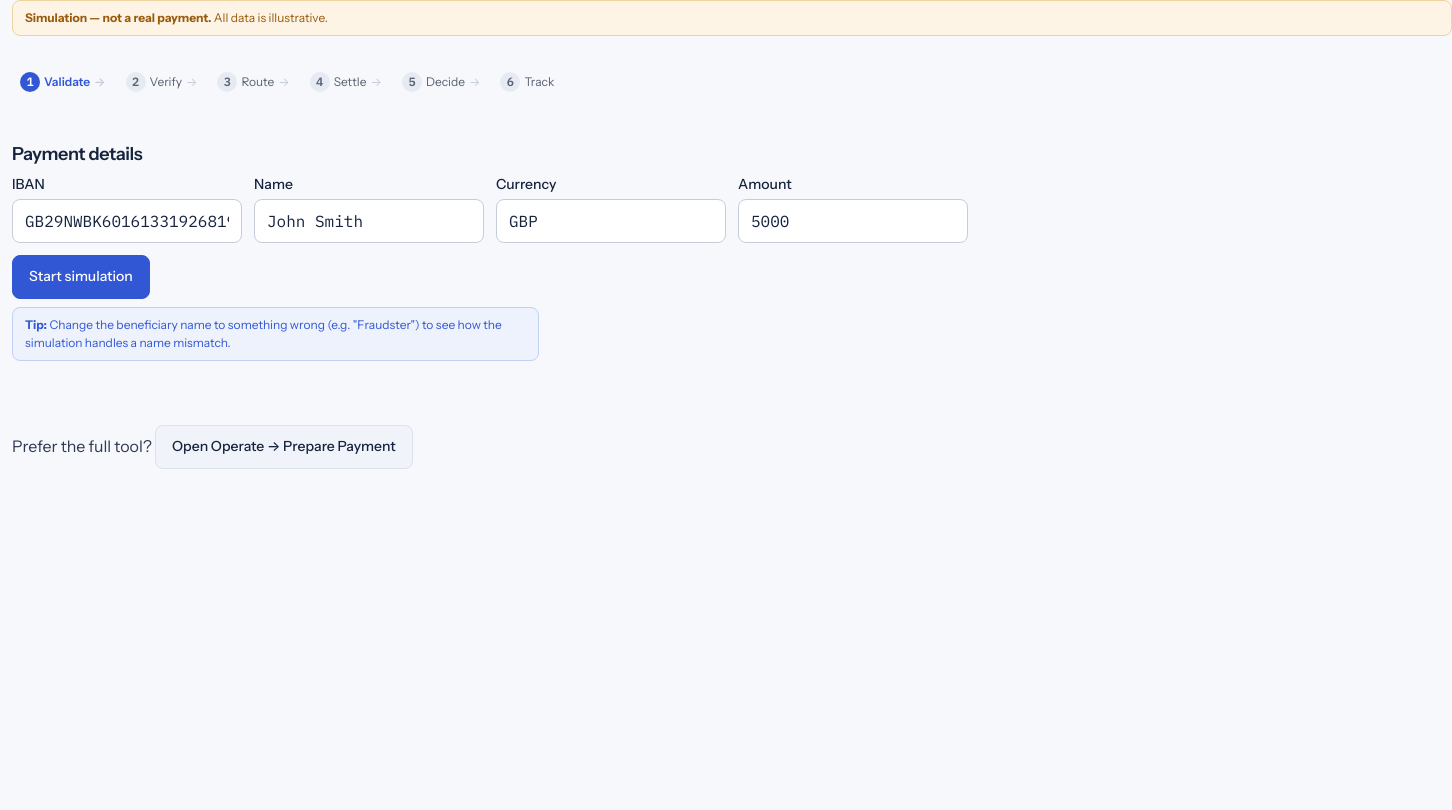
CapstoneContent › when the IBAN is valid but no BIC can be derived › rejects a BIC that does not validate and stays stopped
Replace the text in the field labelled "IBAN" with "GB82WEST12345698765432" at (127, 221), box [12,199,242,243]
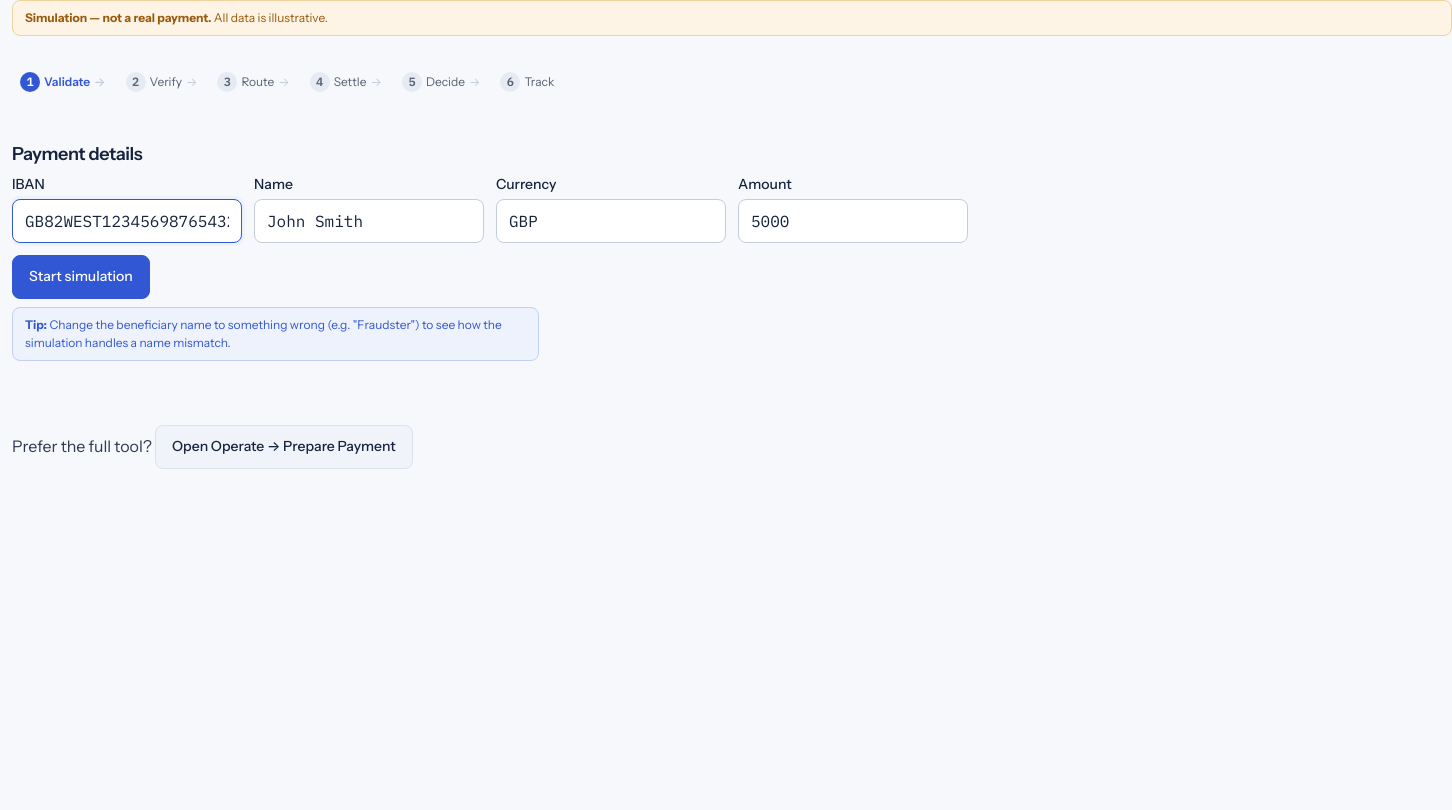
Click the button "Start simulation" at (81, 277), box [12,255,150,299]
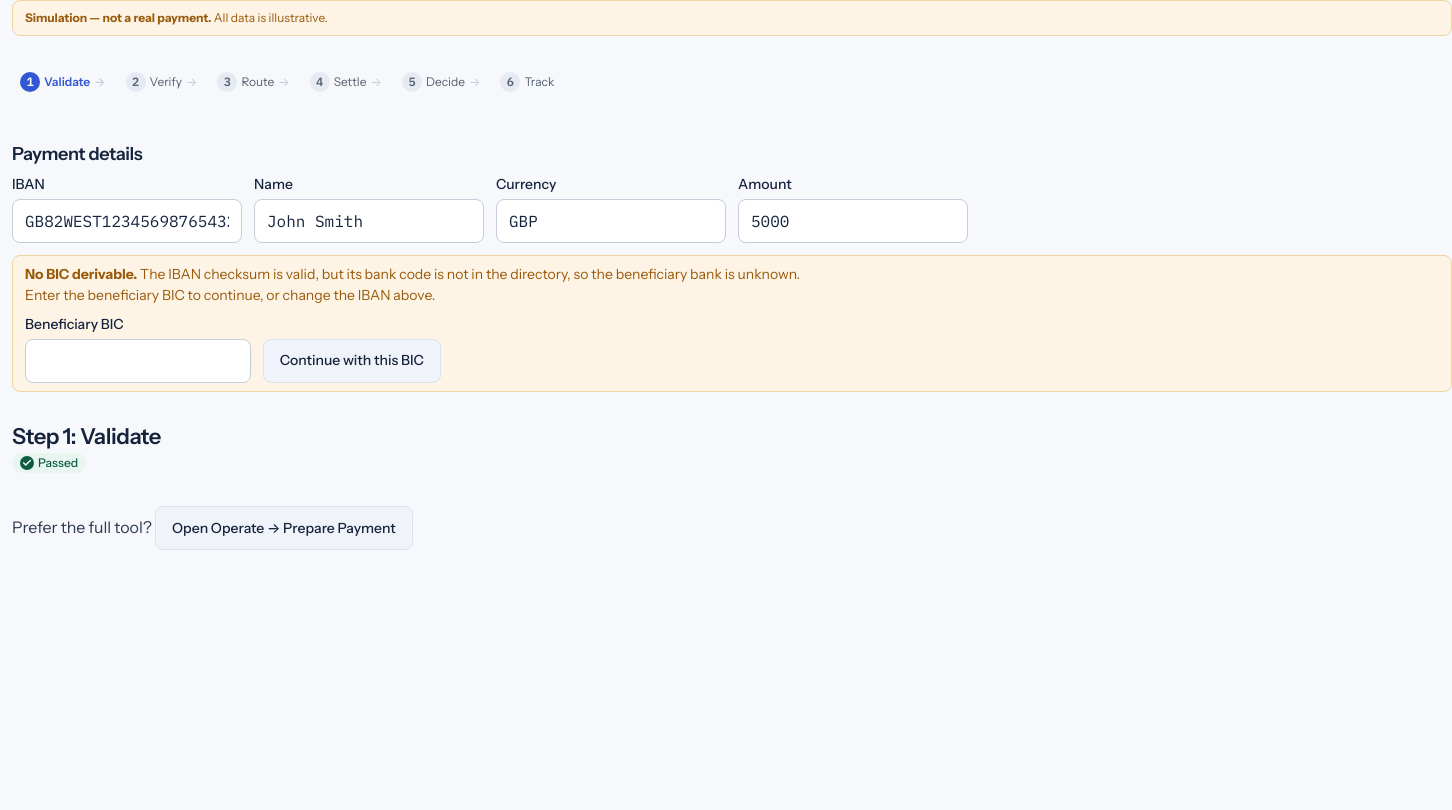
Type "XXXX" into the field labelled "Beneficiary BIC" at (138, 361), box [25,339,251,383]
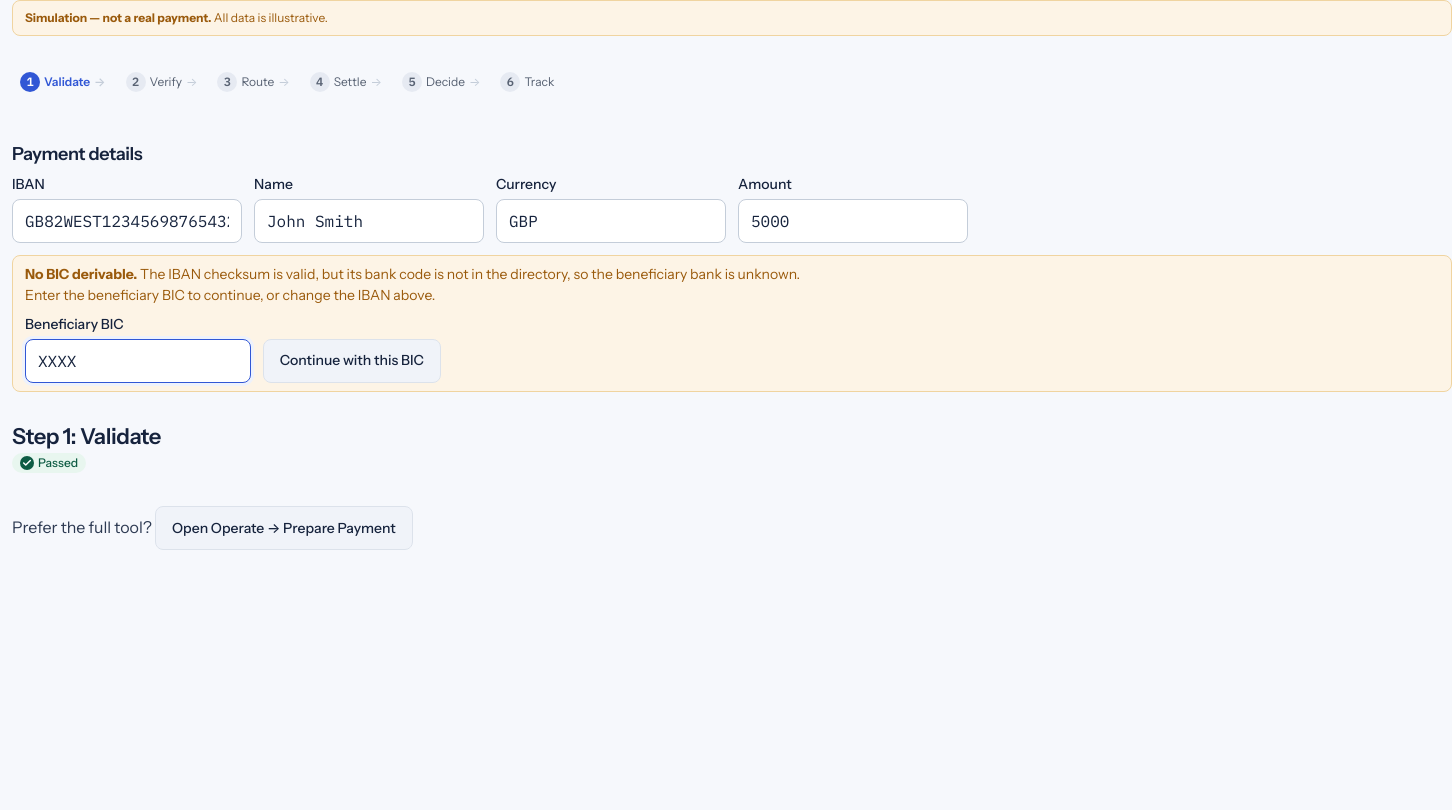
Click the button "Continue with this BIC" at (352, 361), box [263,339,441,383]
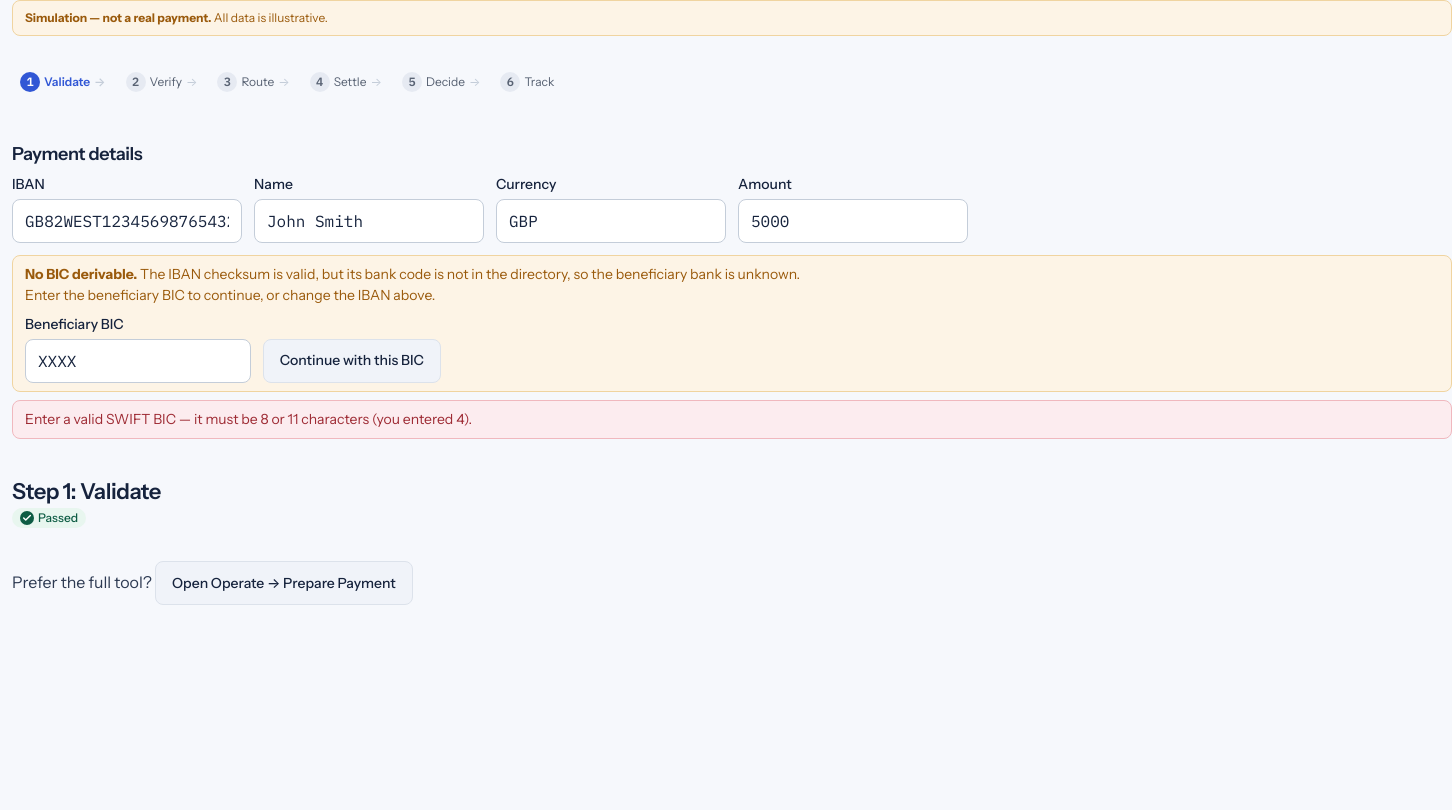
Check: the text "Enter a valid SWIFT BIC — it must be 8 or 11 characters (you entered 4)." is shown, box [12,400,1451,439]
